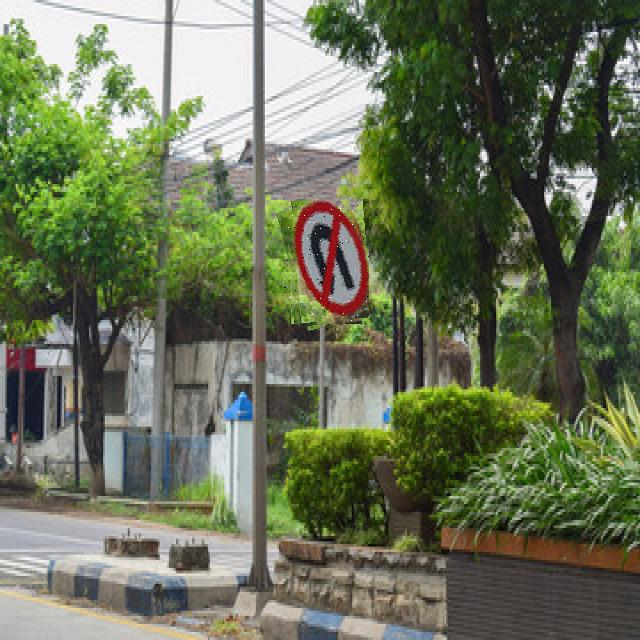no u turn: (284, 199, 369, 327)
